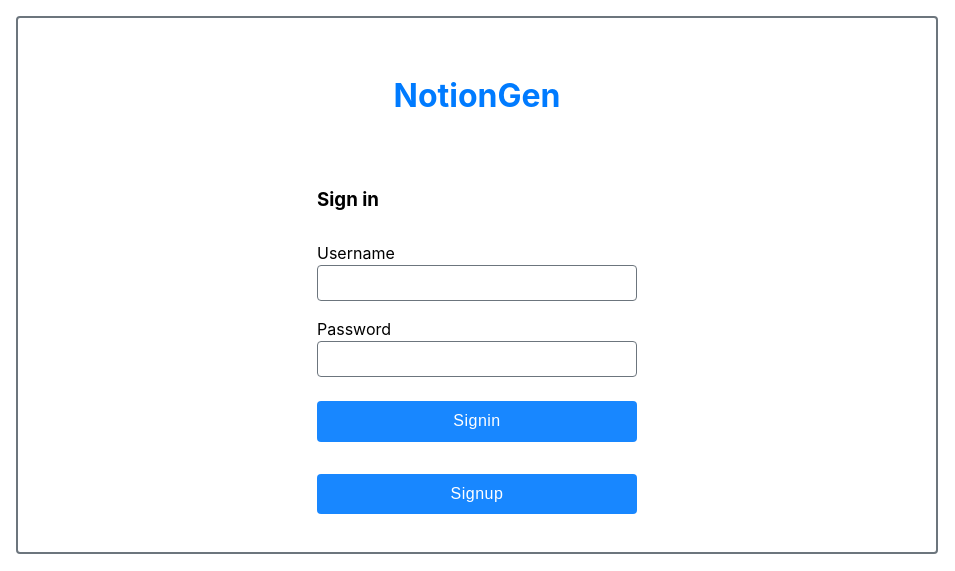
Test: Signin Component › encounter error while signing in
Step 1. Type "test" into the field with test id "test-username-input" → coordinates (477, 283), box [317,265,637,301]
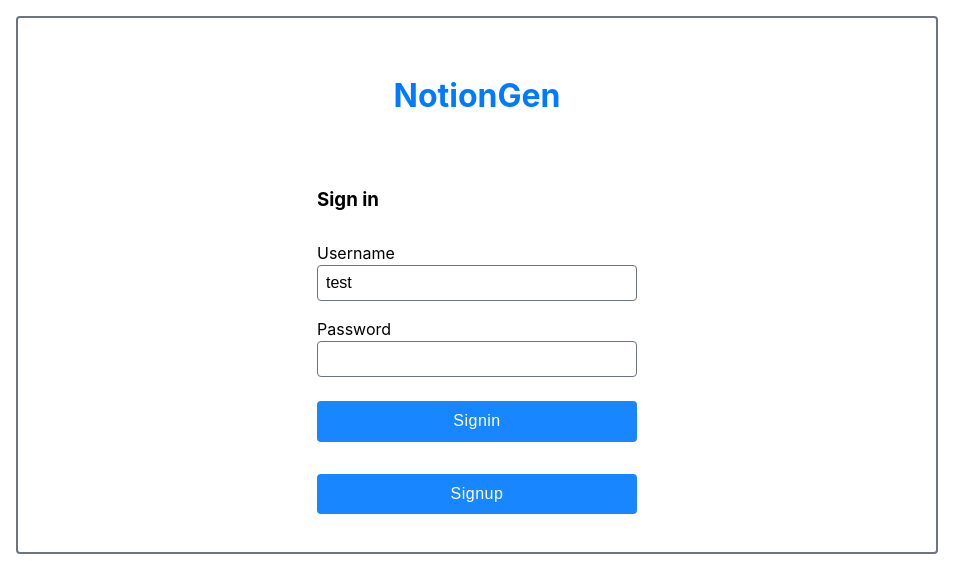
Step 2. Type "1234" into the password field with test id "test-password-input" → coordinates (477, 359), box [317,341,637,377]
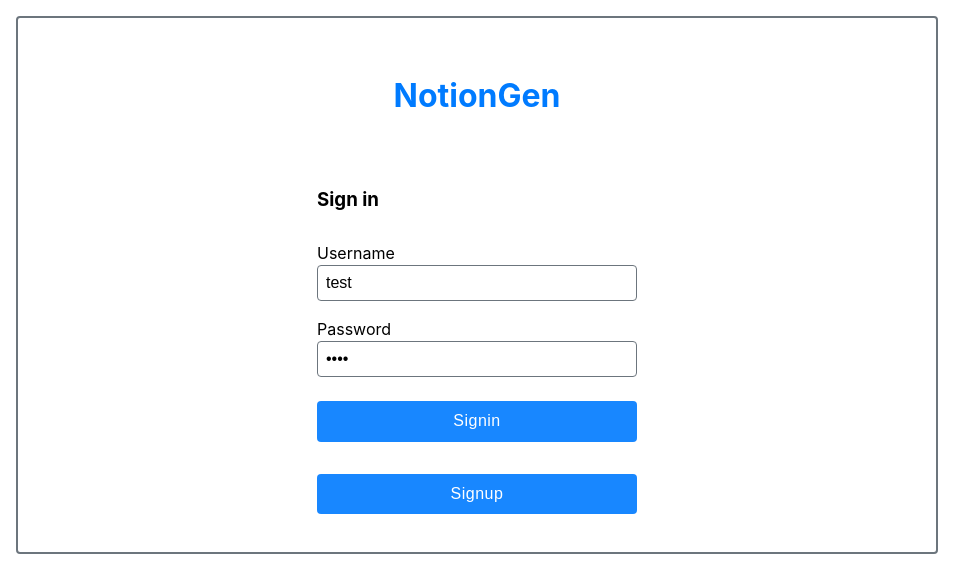
Step 3. Click the button with test id "test-submit-btn" → coordinates (477, 421), box [317,401,637,442]
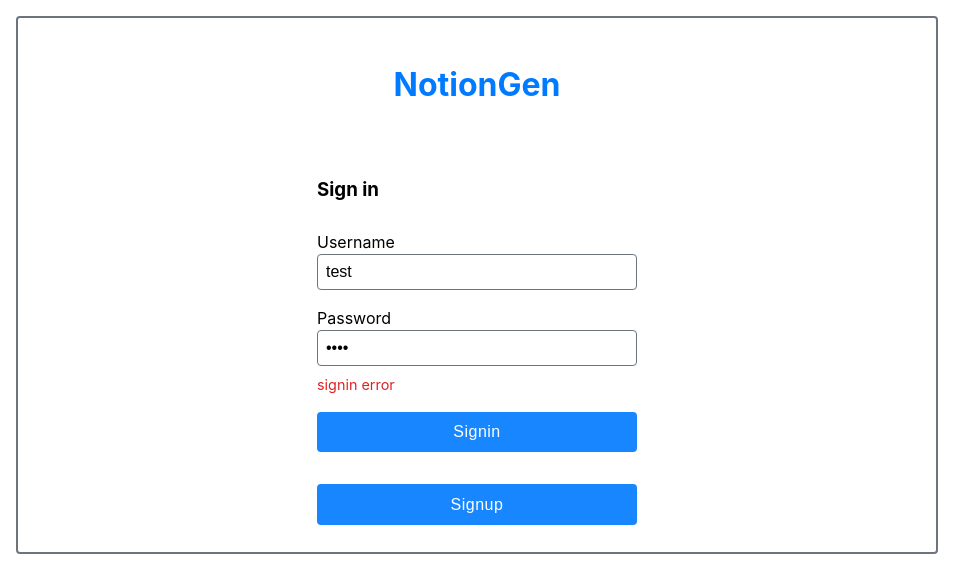
Expected: the text with test id "test-error-text" reads "signin error", [317,376,395,393]
